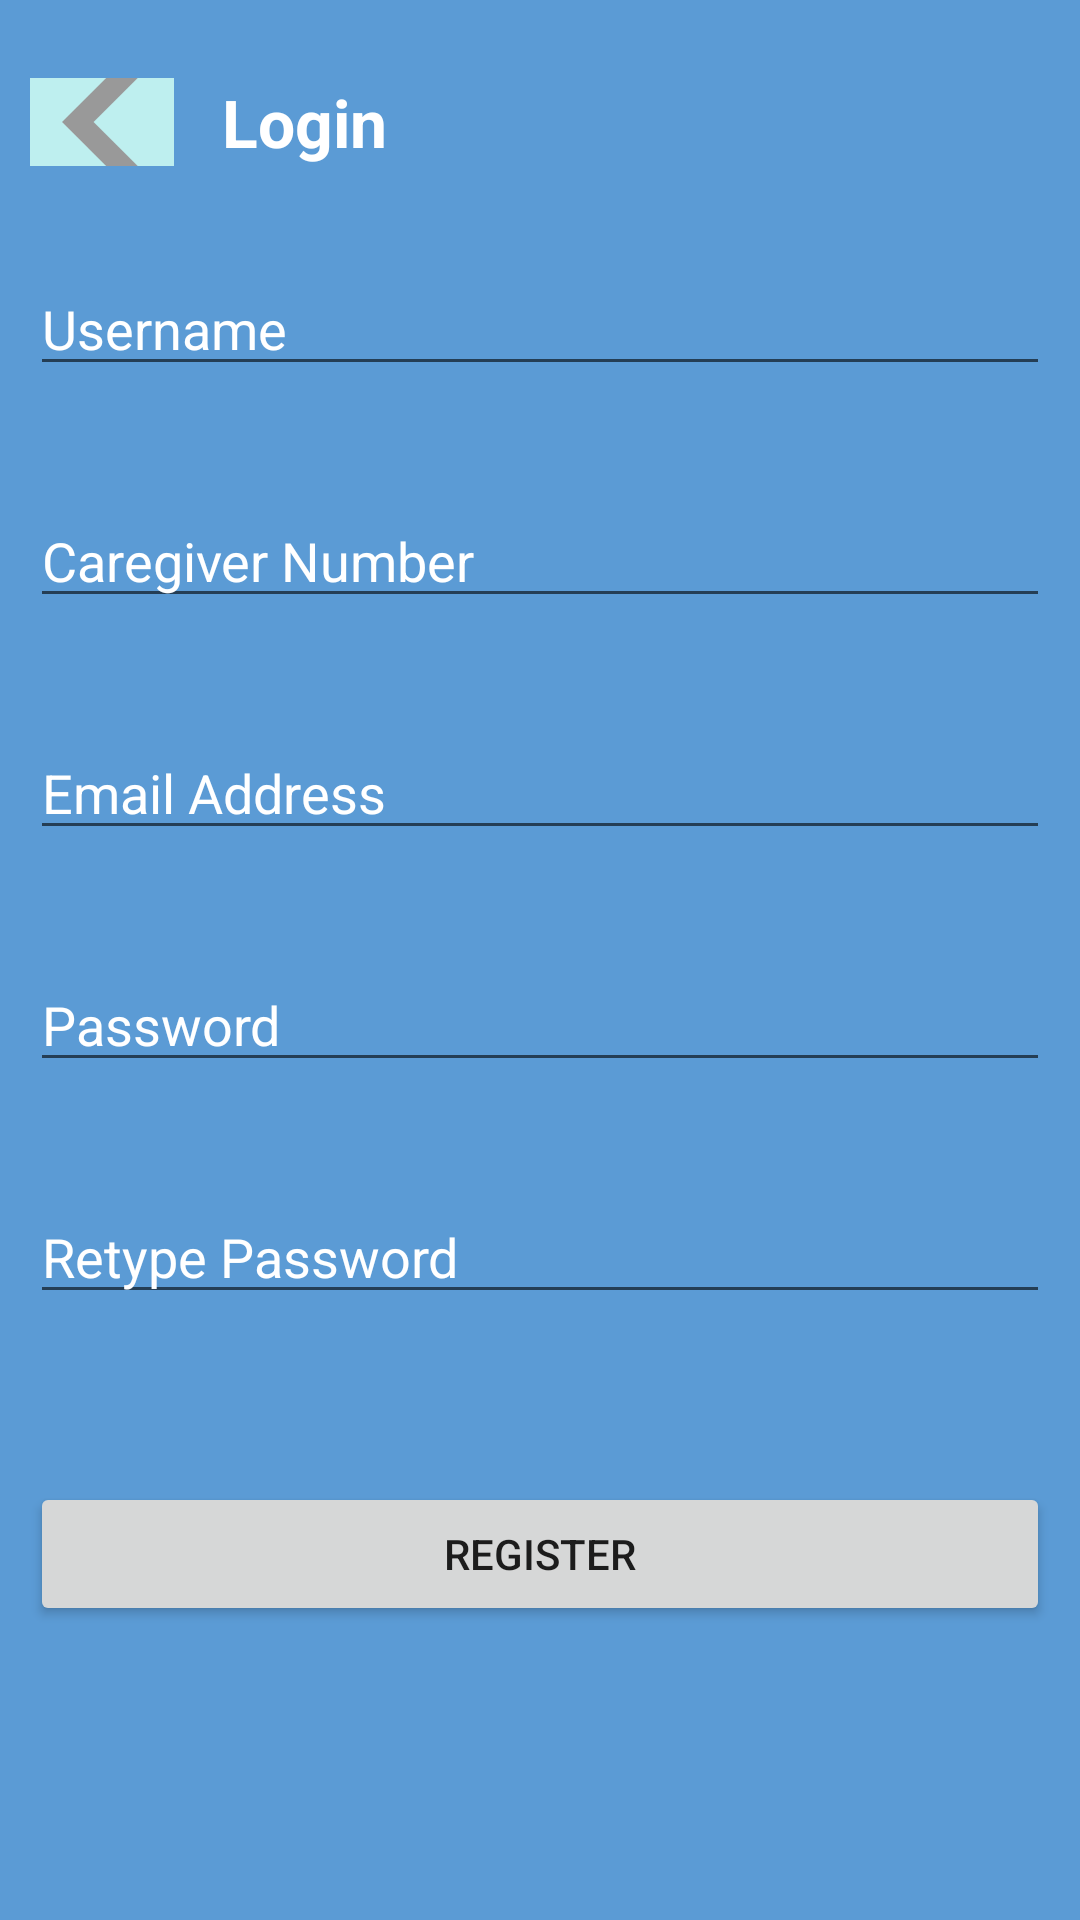

Icon bounding boxes for this 1080 x 1920 phone screenshot, format BBox(x1, y1, x2, y2):
left arrow: BBox(30, 78, 174, 166)
